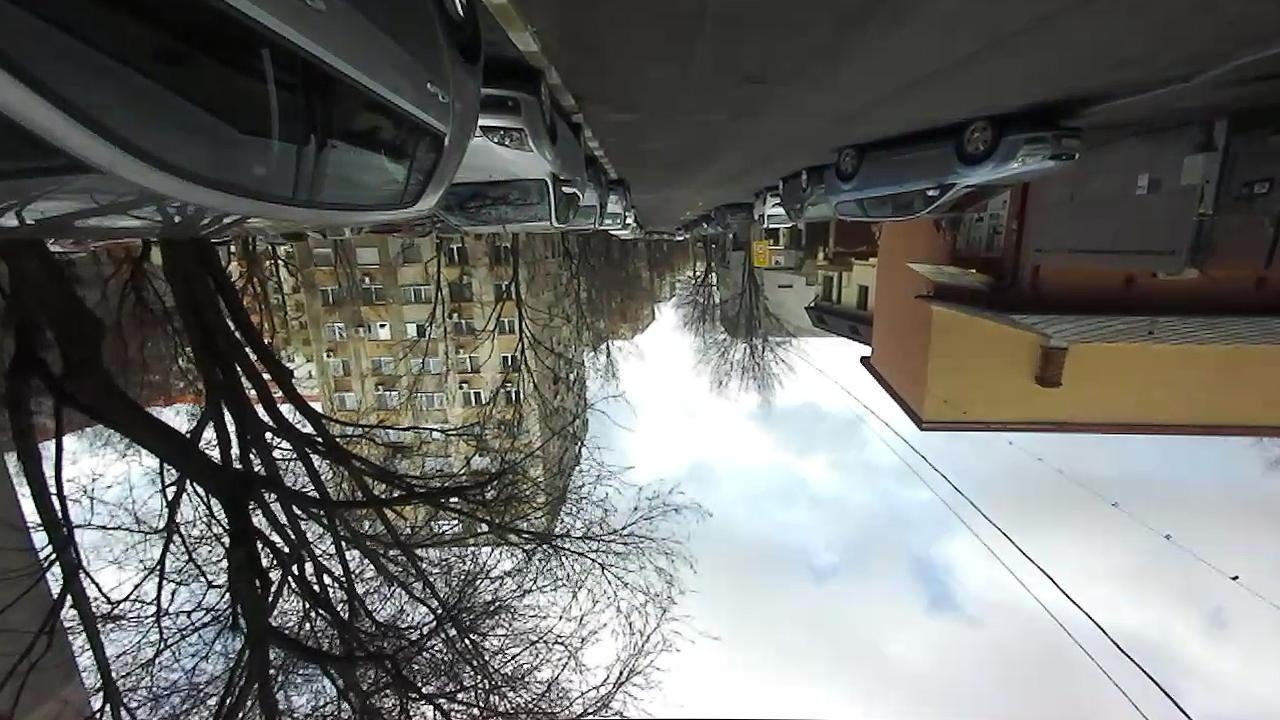pothole: (739, 68, 775, 94)
